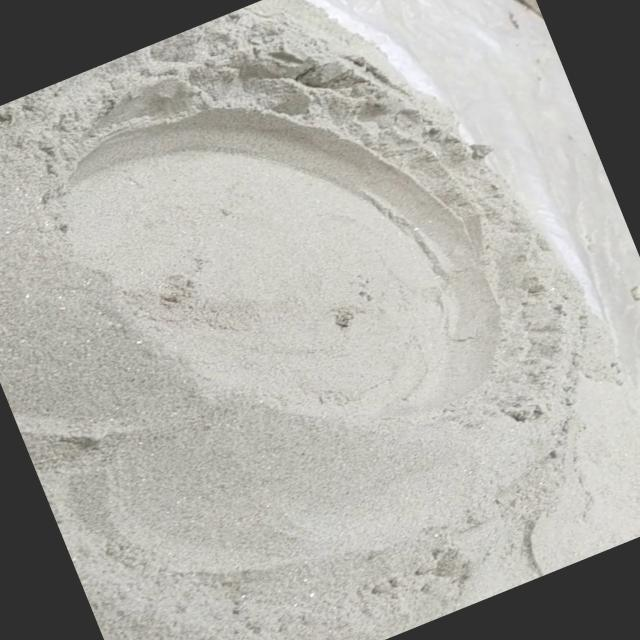C40: (66, 105, 500, 418)
